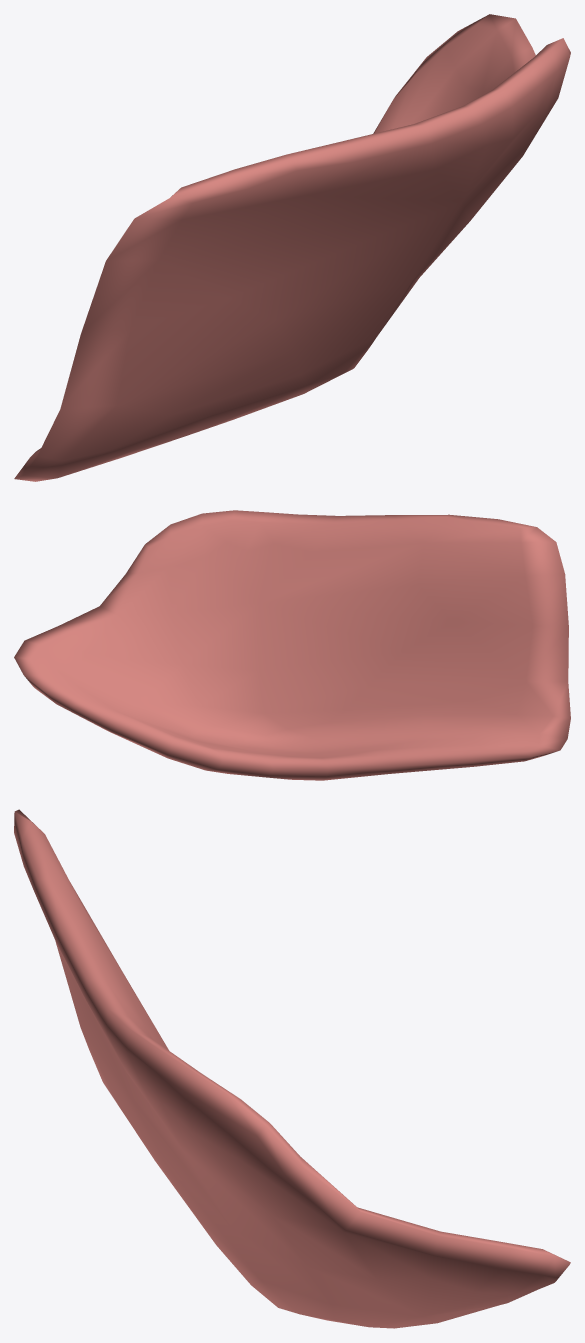
The picture shows the model from 3 angles, top to bottom: view 1: azimuth 30°, elevation 25°; view 2: azimuth 150°, elevation 25°; view 3: azimuth 270°, elevation 25°; orthographic projection. The views are drawn at different scales.
Parts seen in each view (by area): view 1: ZA_350af94761098d49; view 2: ZA_350af94761098d49; view 3: ZA_350af94761098d49.
Part boxes in pixels (<box>): ZA_350af94761098d49: <box>14,14,570,481</box>; ZA_350af94761098d49: <box>14,510,570,780</box>; ZA_350af94761098d49: <box>14,809,570,1328</box>.
Size of the model in its own units: 0.00957 by 0.00475 by 0.00669.
